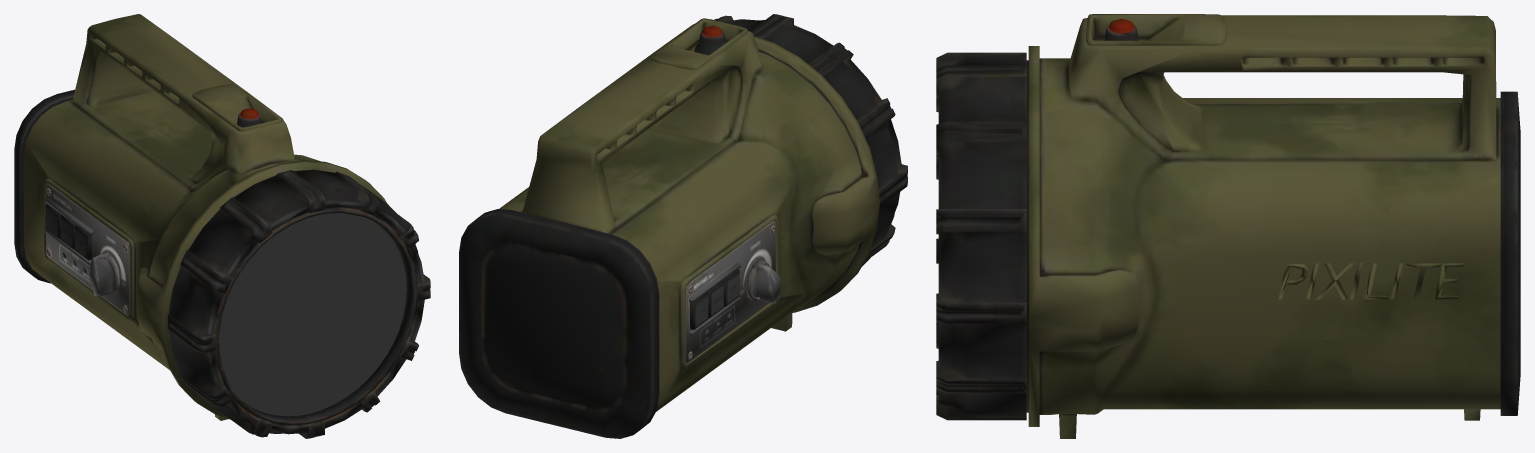
File: portable_searchlight.glb
The picture shows the model from 3 angles, left to right: view 1: azimuth 30°, elevation 25°; view 2: azimuth 150°, elevation 25°; view 3: azimuth 270°, elevation 25°; orthographic projection. The views are drawn at different scales.
Parts seen in each view (by area): view 1: portable_searchlight; view 2: portable_searchlight; view 3: portable_searchlight.
Part boxes in pixels (x1,y1,x2,y2): portable_searchlight: (14,14,430,438); portable_searchlight: (459,14,907,438); portable_searchlight: (936,14,1520,438).
Bounding box in the file's own units: 0.1653 × 0.1853 × 0.2534.
Materials: 2 (2 with a texture image).
